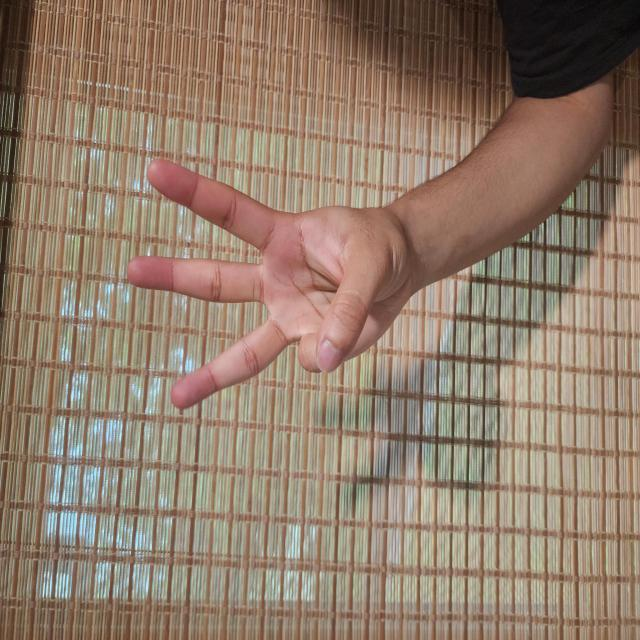W: (169, 164, 363, 548)
